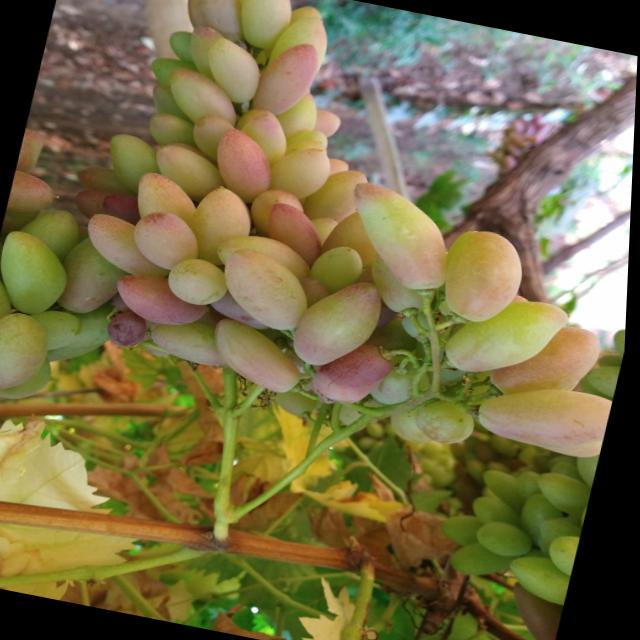grapes: (334, 179, 468, 296), (442, 286, 576, 390), (472, 372, 619, 458), (489, 312, 610, 410), (290, 270, 391, 376), (436, 224, 534, 328), (214, 245, 321, 335), (206, 316, 315, 396), (53, 230, 141, 320), (0, 228, 81, 320), (312, 334, 401, 412), (111, 268, 218, 332), (80, 211, 182, 277), (186, 182, 262, 270), (250, 35, 325, 121), (160, 62, 249, 133), (207, 126, 283, 206), (50, 292, 124, 374), (147, 142, 237, 208), (0, 306, 58, 403), (215, 228, 318, 282), (128, 207, 209, 275), (363, 253, 445, 320), (148, 312, 241, 370), (197, 35, 266, 107), (99, 131, 170, 199), (261, 202, 332, 268), (302, 162, 372, 228), (266, 11, 334, 78), (266, 140, 337, 204), (347, 262, 411, 332), (132, 170, 205, 229), (505, 551, 579, 607), (504, 580, 573, 640), (18, 204, 86, 264), (165, 254, 236, 311), (413, 394, 484, 450), (247, 185, 311, 243), (308, 240, 370, 299), (230, 0, 296, 54), (6, 170, 62, 228), (371, 352, 424, 410), (0, 352, 59, 404), (180, 0, 256, 40), (25, 306, 88, 354), (520, 489, 574, 544), (187, 110, 240, 166), (182, 22, 230, 83), (453, 538, 518, 583), (271, 88, 323, 144), (537, 471, 599, 515), (144, 111, 207, 153), (479, 520, 545, 560), (388, 404, 443, 447), (538, 514, 589, 560), (147, 83, 204, 124), (483, 470, 540, 510), (0, 267, 22, 366), (76, 161, 135, 196), (106, 308, 154, 351), (284, 2, 333, 44), (158, 138, 226, 168), (147, 54, 202, 90), (340, 396, 392, 434), (551, 428, 608, 462), (0, 204, 43, 248), (445, 508, 490, 549), (547, 532, 585, 580), (475, 495, 525, 531), (572, 442, 606, 494), (272, 386, 323, 420), (101, 190, 148, 226), (71, 185, 116, 222), (164, 27, 206, 65), (17, 127, 50, 175), (296, 274, 336, 312), (584, 362, 624, 400), (285, 136, 330, 164), (287, 126, 331, 154), (307, 214, 343, 248), (309, 108, 344, 140), (554, 459, 590, 488), (610, 326, 629, 368), (326, 158, 352, 180)
